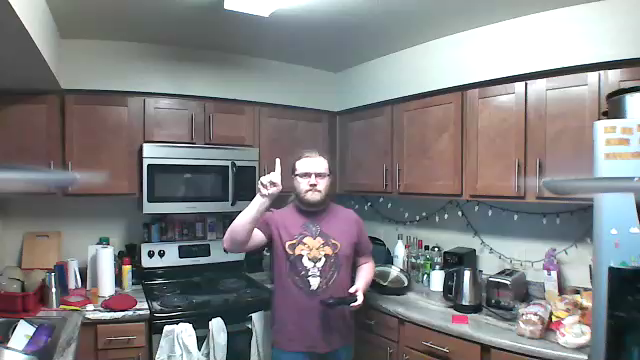up: (255, 156, 286, 201)
